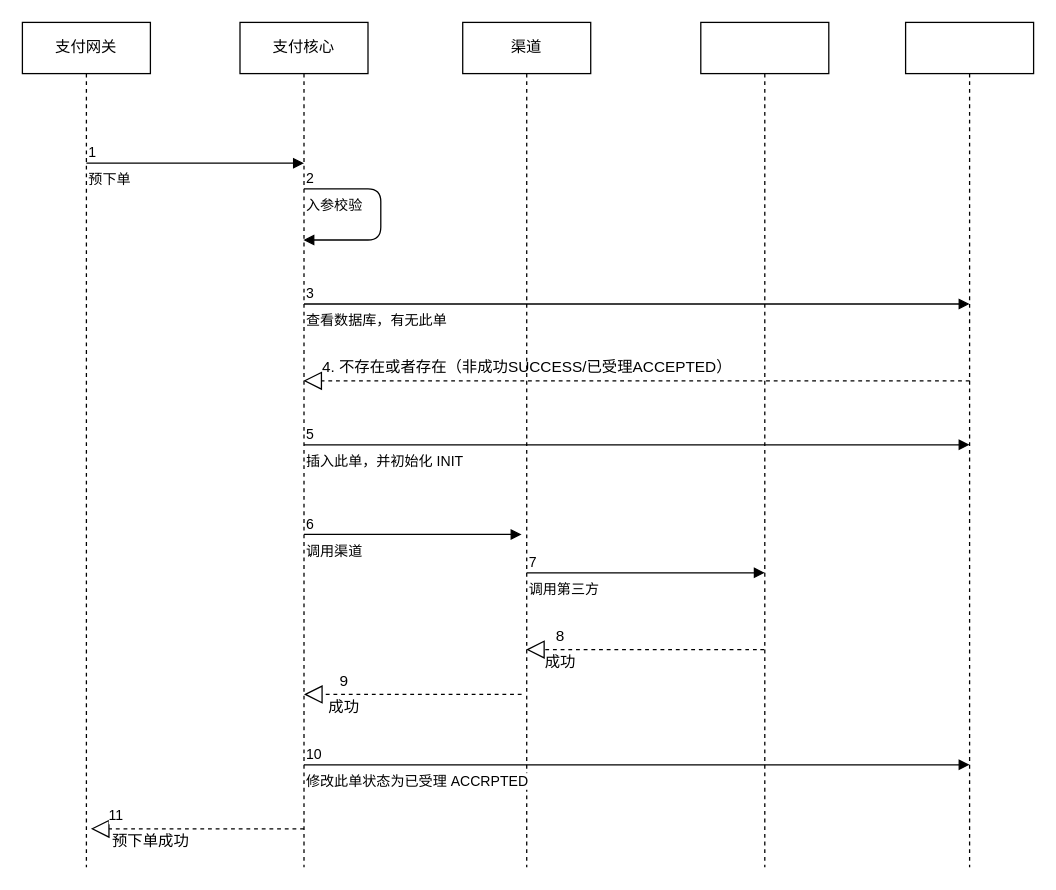
The diagram is 1056 pixels wide and 890 high, and some of its shapes have lost their labels. Each missing label, with the box of its shape:
支付数据库: (904, 21, 1034, 867)
第三方: (700, 21, 829, 867)
